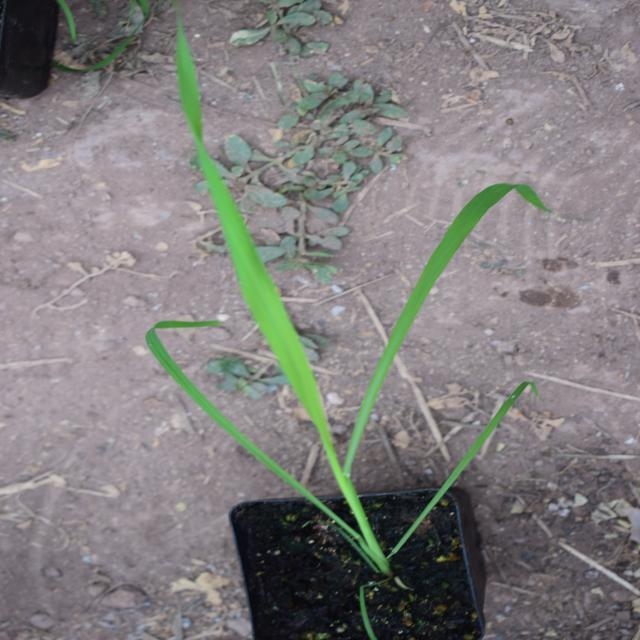barnyard_grass: (61, 139, 564, 527)
